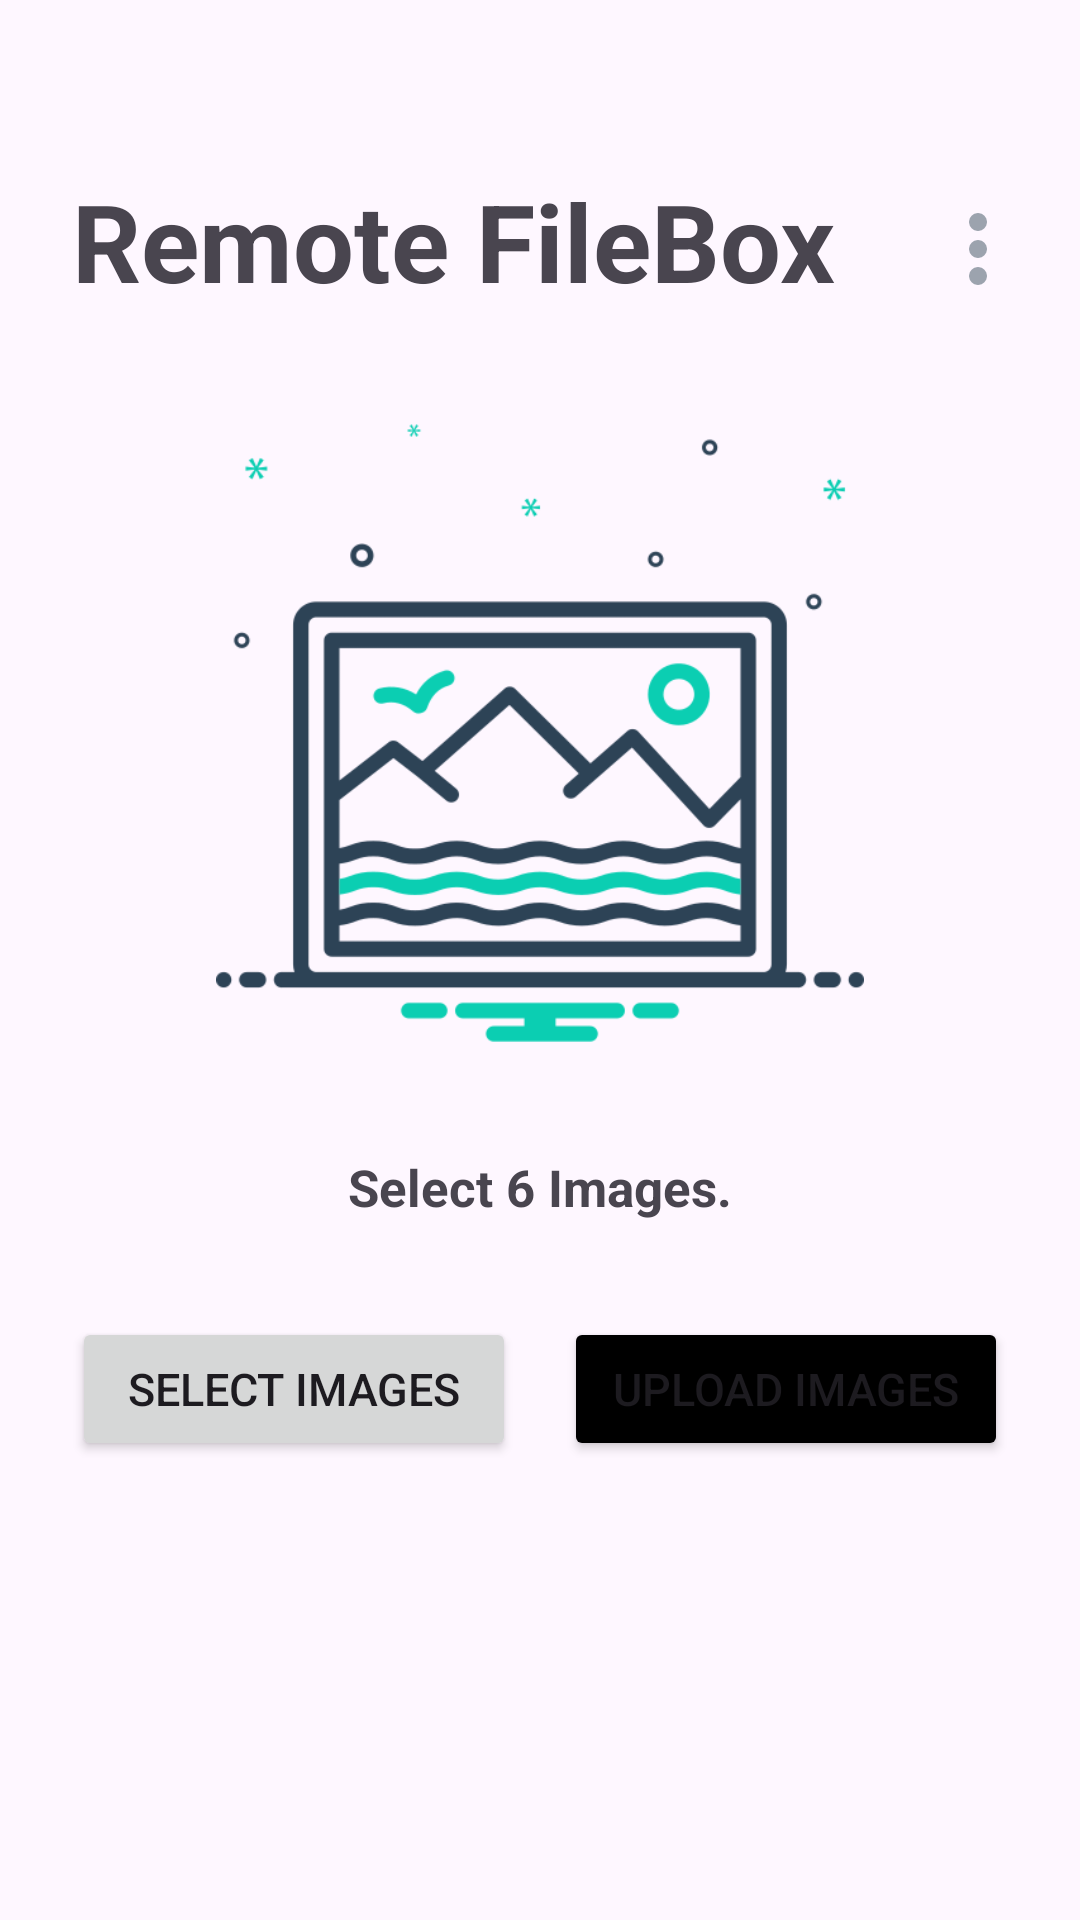

Icon click points for this 1080x1920 phone screenshot, format point (x, y):
menu: point (978, 249)
